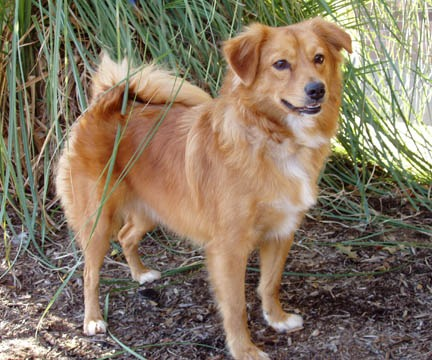dog: (50, 22, 360, 350)
